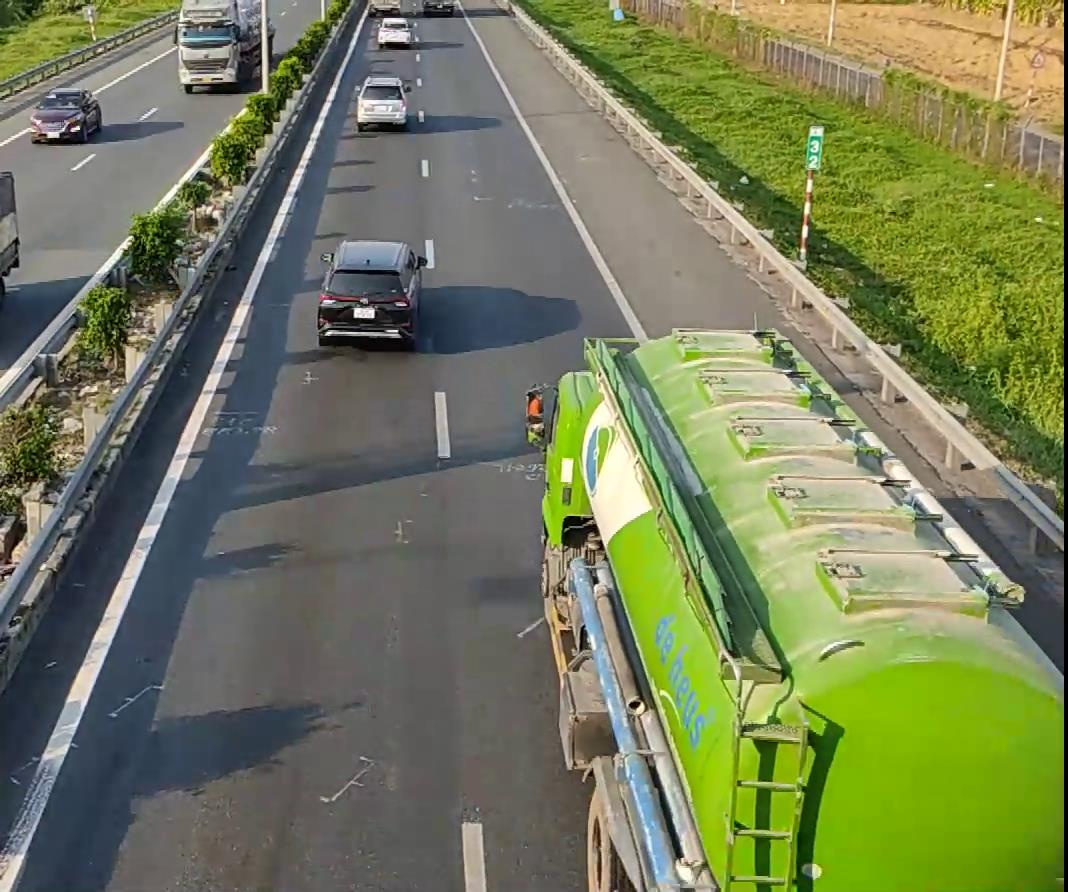car: (313, 239, 431, 348), (29, 86, 102, 142)
container: (535, 328, 1061, 892)
